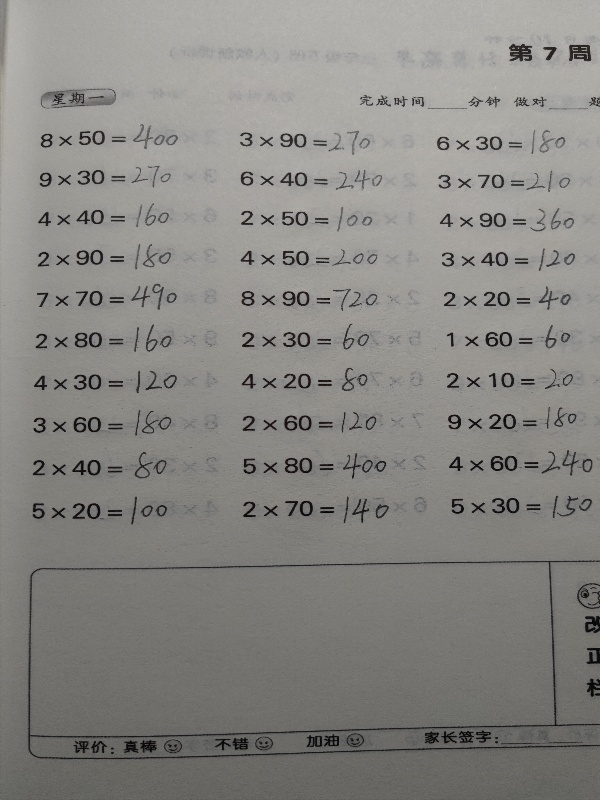equation: (29, 491, 183, 529), (31, 321, 182, 357), (239, 491, 394, 526), (443, 401, 587, 437), (32, 364, 182, 397), (34, 281, 183, 314), (237, 362, 374, 397), (31, 450, 178, 482), (34, 241, 175, 274), (37, 121, 182, 153), (448, 490, 596, 521), (237, 127, 379, 159), (30, 411, 181, 441), (34, 202, 176, 233), (237, 285, 383, 315), (437, 205, 578, 236), (433, 126, 569, 158), (240, 450, 395, 478), (237, 204, 376, 235), (443, 323, 584, 353), (438, 245, 579, 275), (36, 162, 175, 192), (441, 283, 575, 314), (237, 167, 387, 194), (446, 450, 597, 476), (435, 168, 575, 196), (447, 364, 581, 393), (236, 409, 384, 435), (237, 324, 378, 351), (236, 245, 381, 271)
